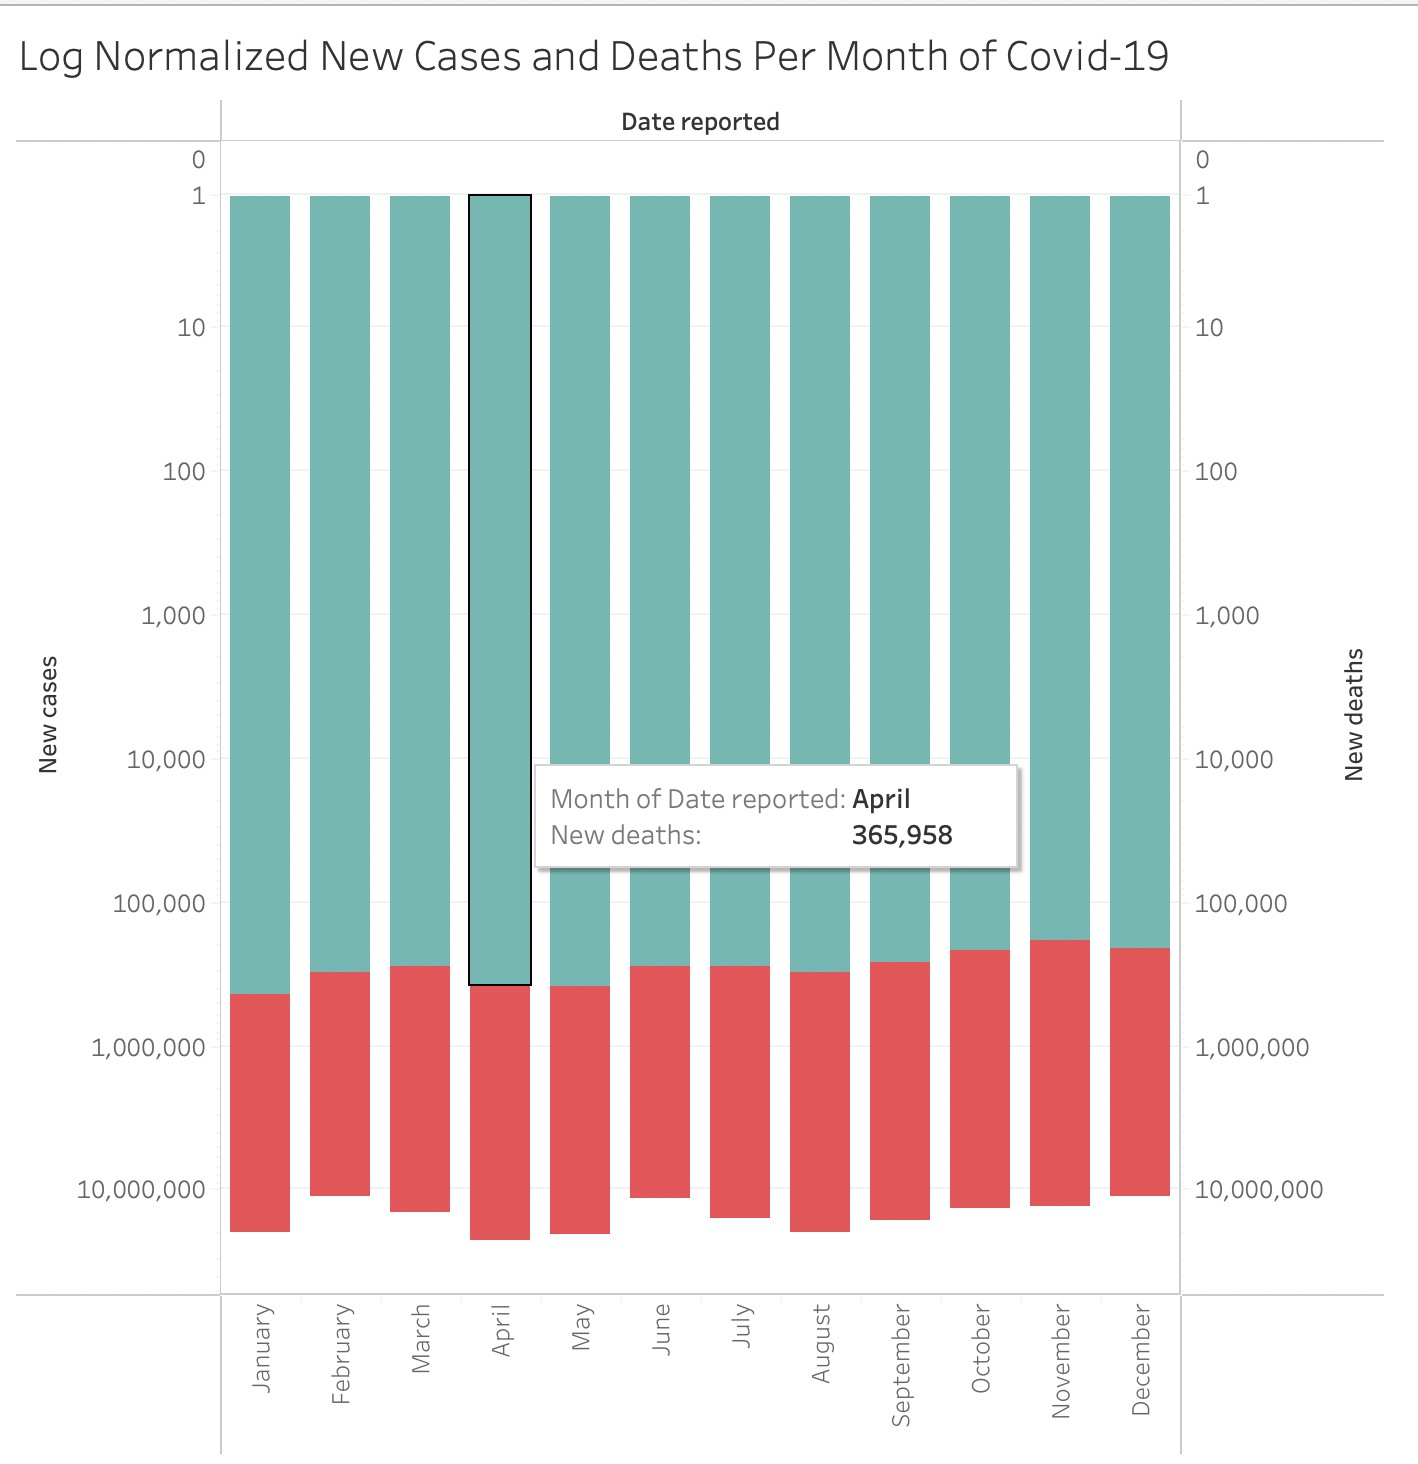

What the dashboard file says about the page in this screenshot:
{"tool":"tableau","page":{"name":"Dashboard 1","canvas":[1000,1000],"units":"permille","ordinal":0},"visuals":[{"type":"worksheet","title":"Sheet 1","mark":"Automatic","box":[6.5,9.9,843,603.9]},{"type":"legend","title":"Sheet 1","param":"[federated.1vvfp670pnrrzk1gov2pv14rkbml].[sum:TOTAL_VACCINATIONS_PER100:qk]","box":[849.5,9.9,144,80.4]},{"type":"filter","title":"Sheet 2","param":"[federated.1vvfp670pnrrzk1gov2pv14rkbml].[none:Date_reported:qk]","box":[849.5,90.3,144,85.4]},{"type":"legend","title":"Sheet 2","param":"[federated.1vvfp670pnrrzk1gov2pv14rkbml].[:Measure Names]","box":[849.5,175.7,144,81.7]},{"type":"worksheet","title":"Sheet 2","mark":"Bar","rows":["New_cases","New_deaths"],"cols":["Date_reported"],"box":[6.5,613.8,843,376.3]}]}

Visuals, with their boxes on the dashboard's canvas, which has no fixed pixel size, in thousandths of its width and height (x1, y1, x2, y2). These are canvas units, not pixel positions in the 1418x1464 screenshot, which may show the page scaled, cropped or inside an application window:
"Sheet 1" worksheet: x1=6 y1=10 x2=850 y2=614
"Sheet 1" legend: x1=850 y1=10 x2=994 y2=90
"Sheet 2" filter: x1=850 y1=90 x2=994 y2=176
"Sheet 2" legend: x1=850 y1=176 x2=994 y2=257
"Sheet 2" worksheet (Bar marks): x1=6 y1=614 x2=850 y2=990
